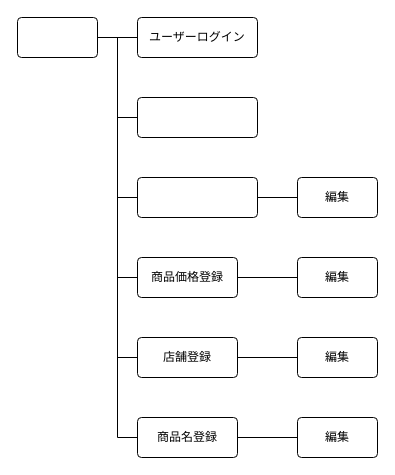
This 395x475 diagram has some shape labels left out. Each missing label, with the centre of its shape:
"ユーザーマイページ" goes at pixel 197 197.
"ユーザー新規登録" goes at pixel 197 117.
"一覧ページ" goes at pixel 57 37.
